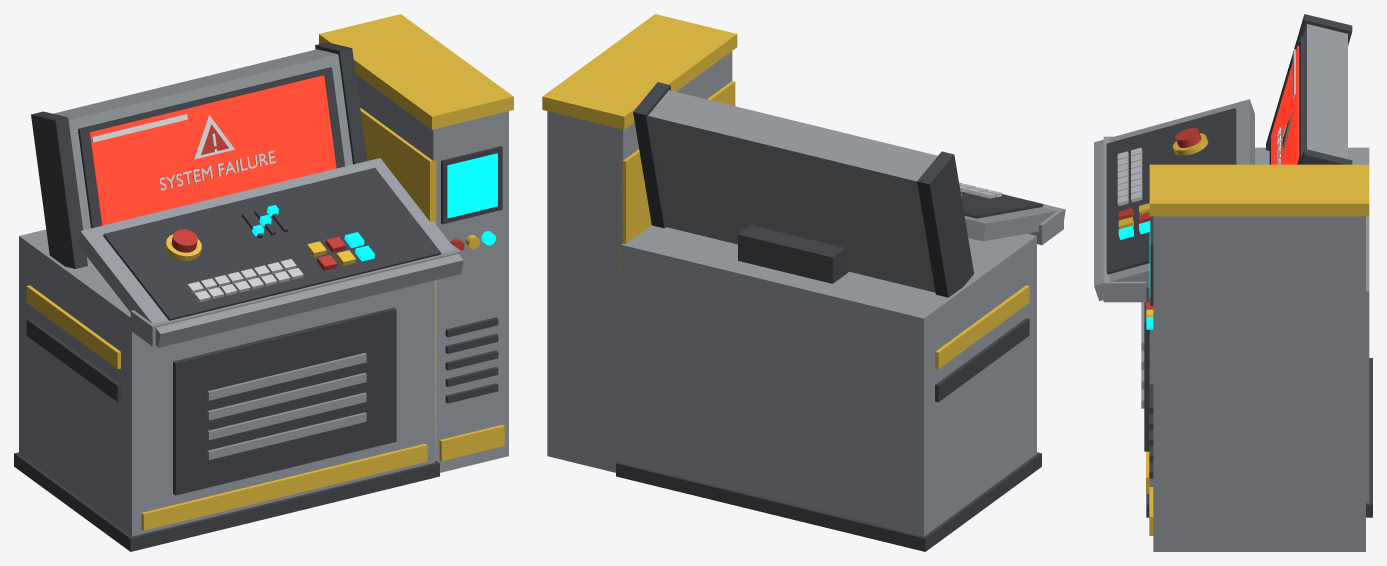
File: FV_ControlConsole.fbx
3 renders of one model, left to right at view 1: azimuth 30°, elevation 25°; view 2: azimuth 150°, elevation 25°; view 3: azimuth 270°, elevation 25°, orthographic. The views are drawn at different scales.
Visible parts, largest first — view 1: ControlConsole; view 2: ControlConsole; view 3: ControlConsole.
Boxes of the visible parts, box(x1,y1,x2,y2) form: ControlConsole: box(14, 14, 513, 551); ControlConsole: box(542, 14, 1065, 551); ControlConsole: box(1094, 14, 1372, 551).
Size of the model in its own units: 1.22 by 1.12 by 0.7873.
